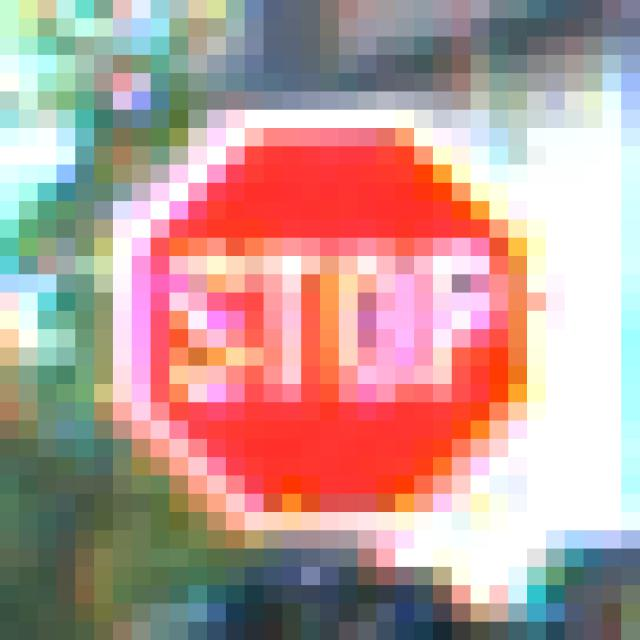STOP: (95, 93, 547, 532)
